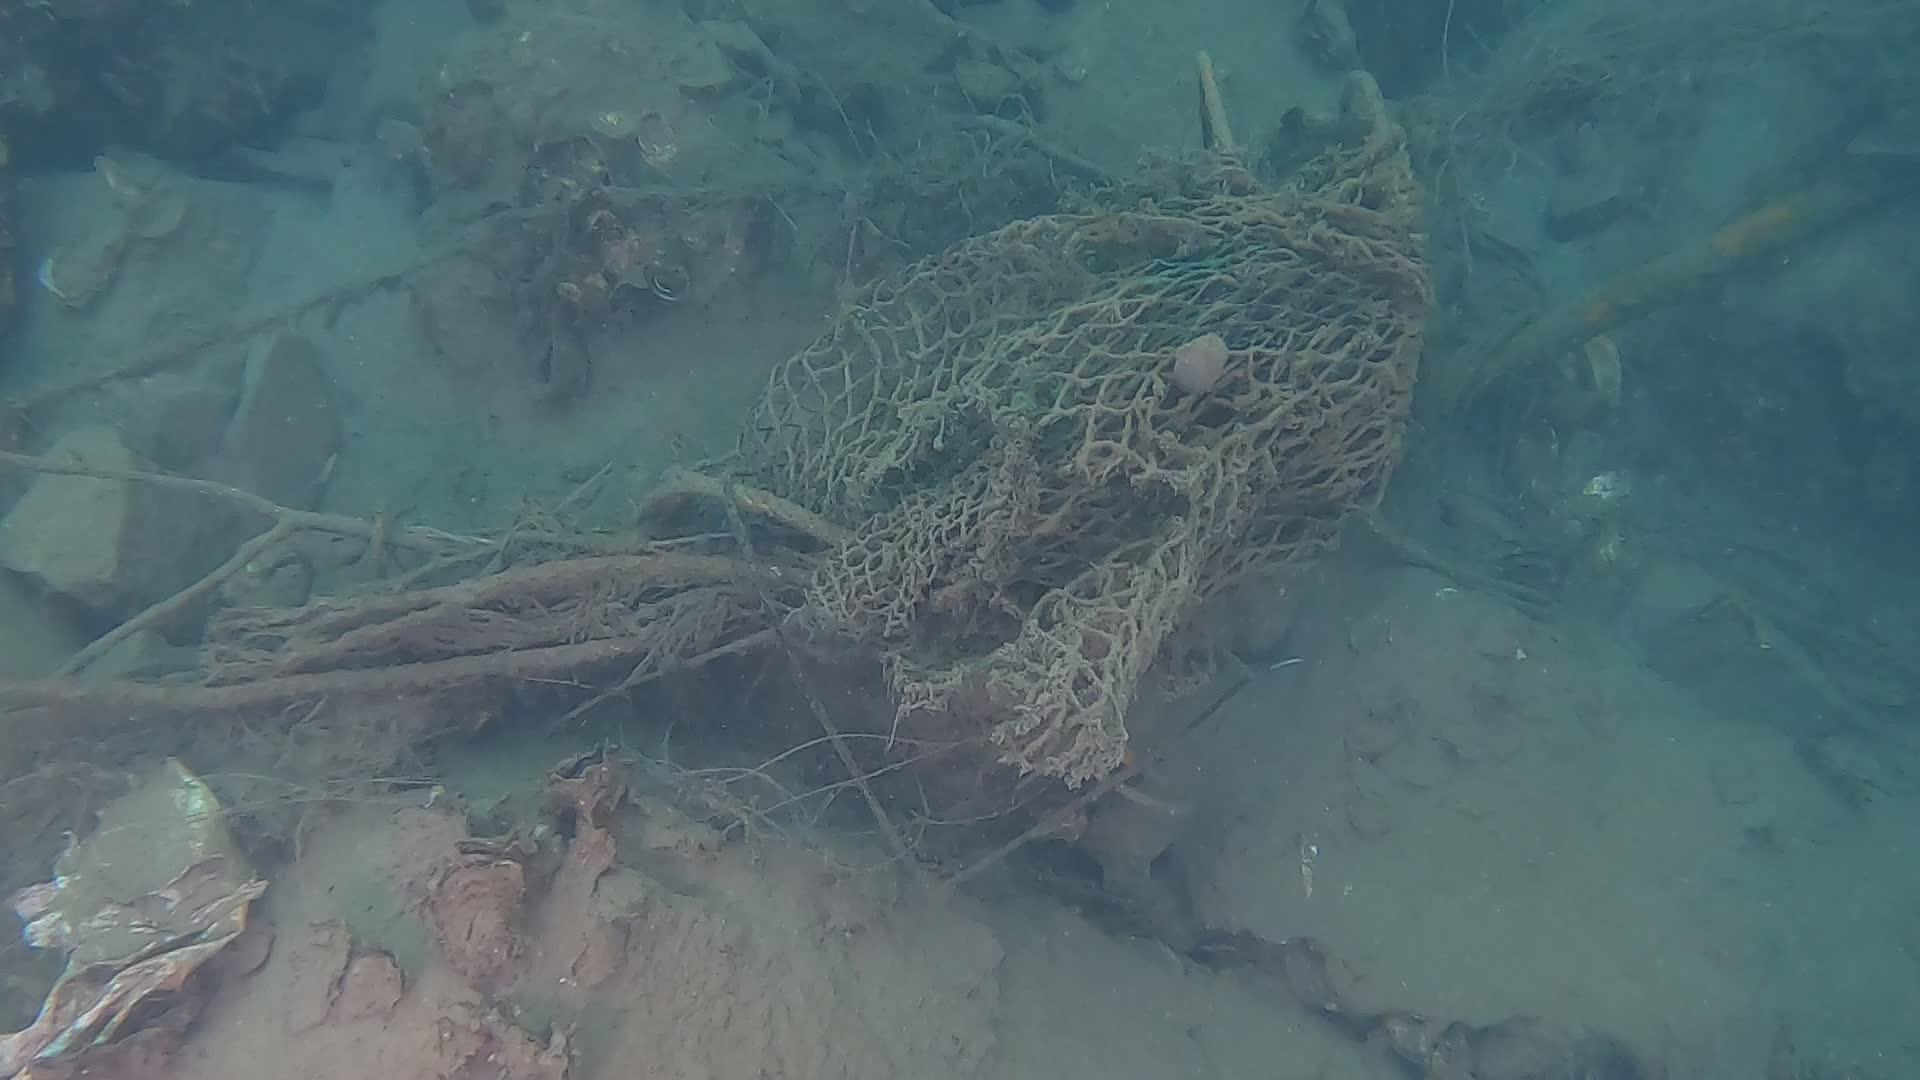fish net: (738, 190, 1428, 774)
